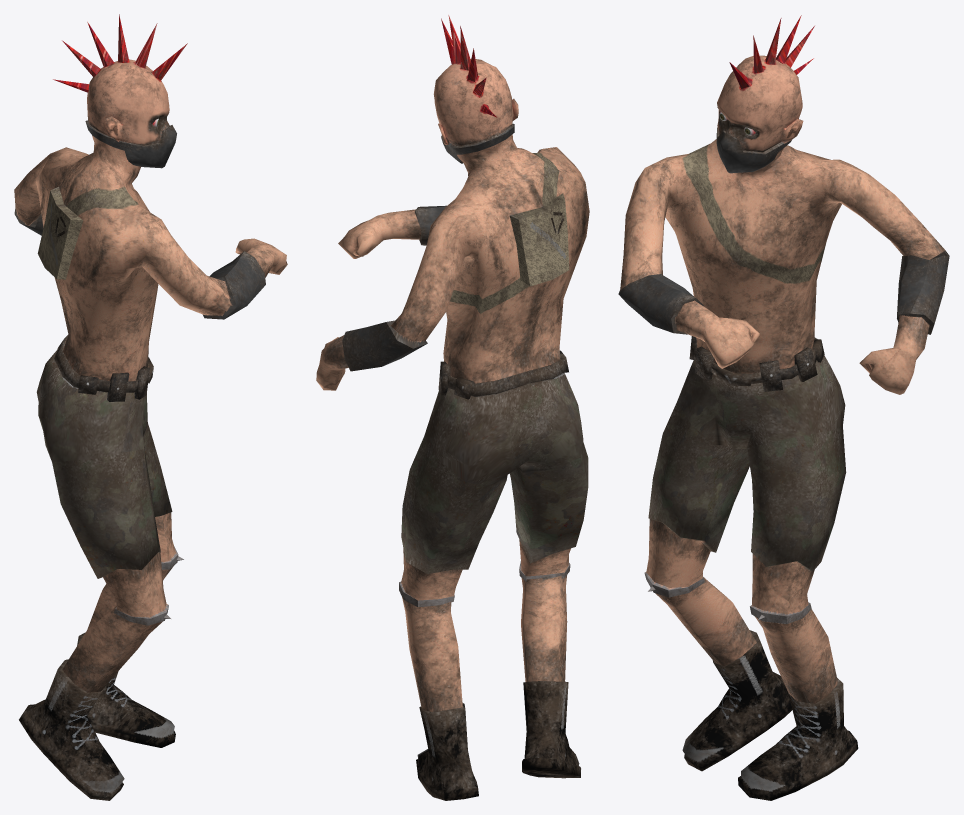
The model's file is Anim_arma_cc_npc2.0008.obj.
3 views of the same model, side by side, from view 1: azimuth 30°, elevation 25°; view 2: azimuth 150°, elevation 25°; view 3: azimuth 270°, elevation 25° (orthographic). The views are drawn at different scales.
Visible parts, largest first — view 1: polySurface1; view 2: polySurface1; view 3: polySurface1.
Boxes of the visible parts, x1,y1,x2,y2 form: polySurface1: (14, 14, 287, 800); polySurface1: (316, 15, 589, 800); polySurface1: (618, 15, 949, 800).
Size of the model in its own units: 3.38 by 10.07 by 3.9.
